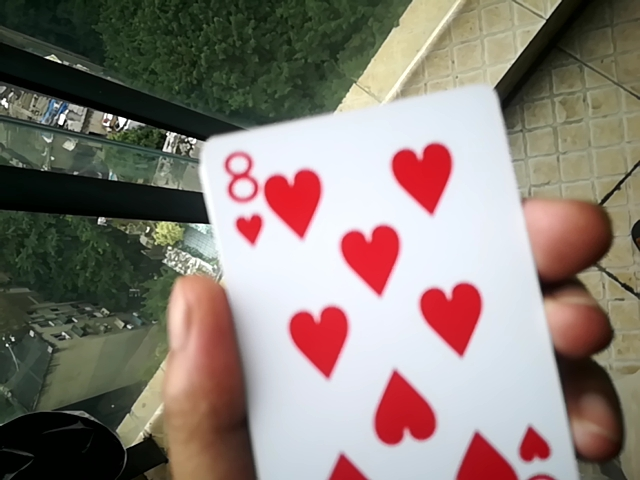hx 8: (198, 83, 575, 480)
